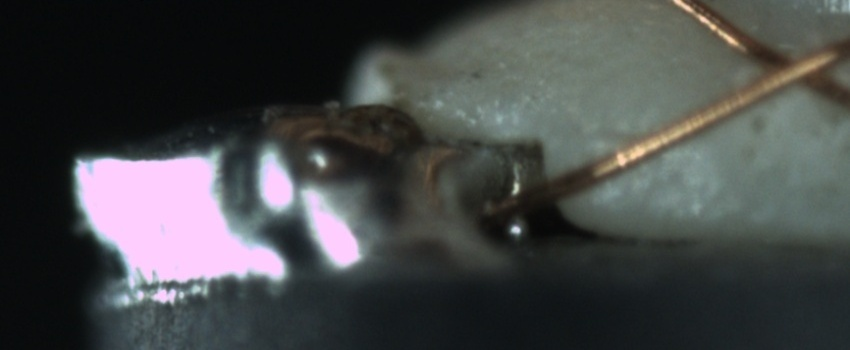CL: (741, 31, 847, 105)
DL: (583, 102, 674, 166)
